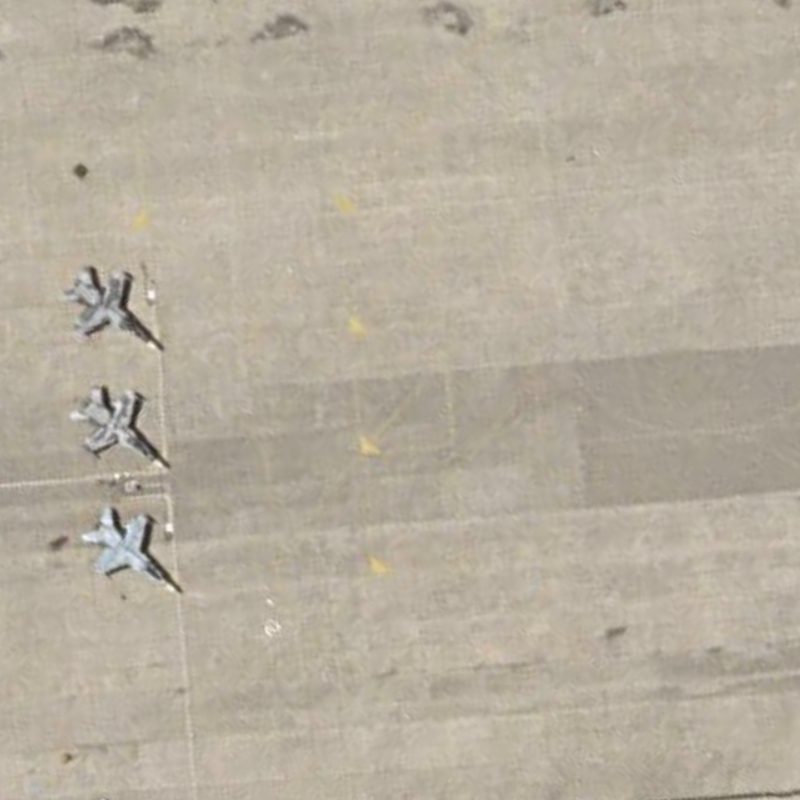A16: (76, 503, 190, 609), (59, 258, 174, 361), (71, 374, 177, 475)
